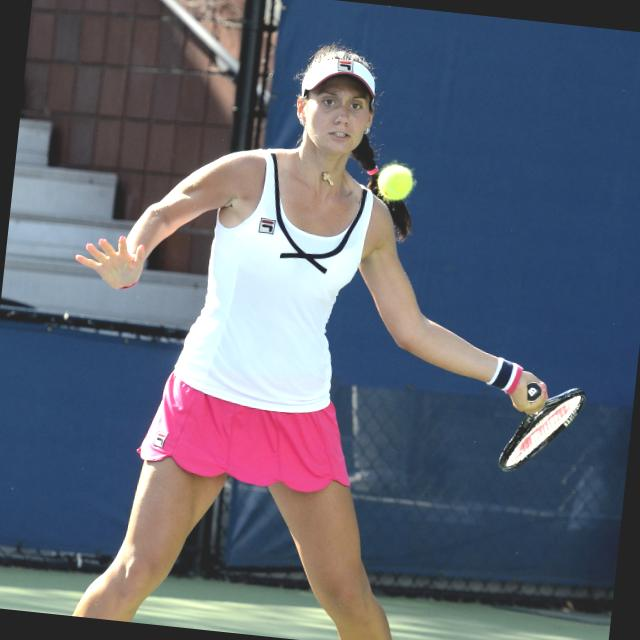Tennis Ball: (373, 161, 416, 204)
